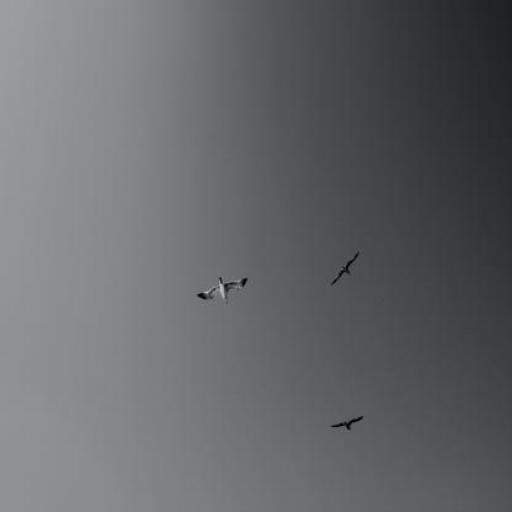bird: (196, 276, 249, 304), (330, 250, 360, 286), (330, 416, 364, 431)
